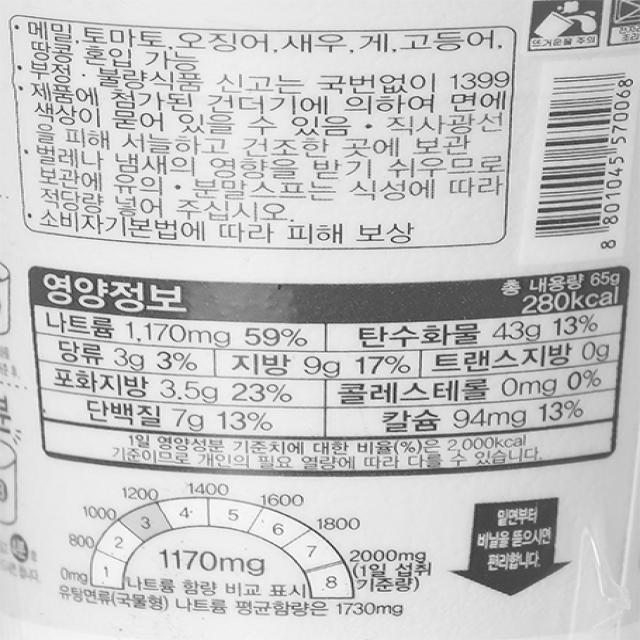Nutrition Label: (17, 254, 640, 484)
